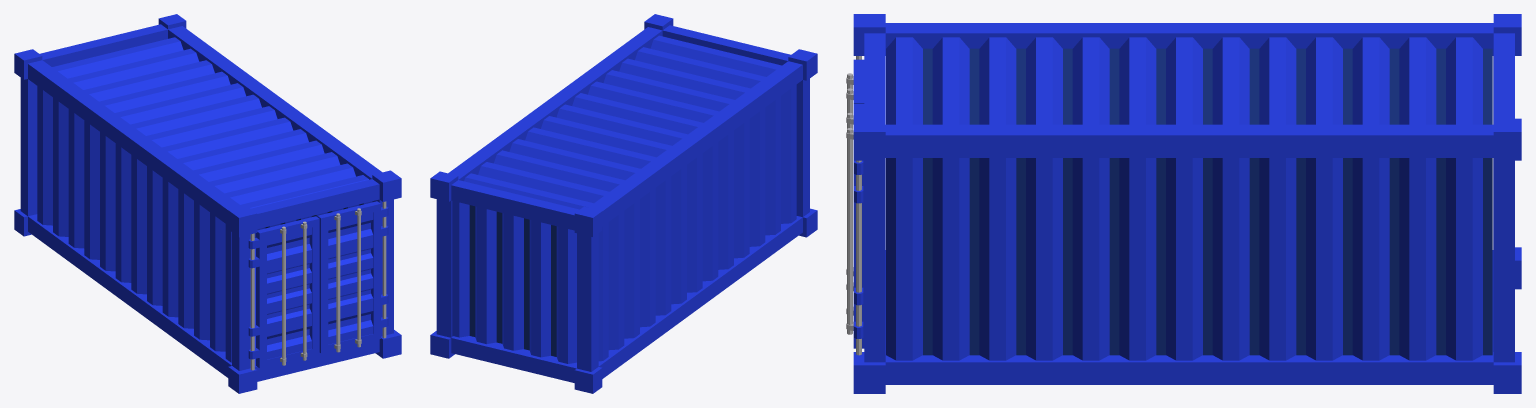
File: Container_1_4.fbx
The picture shows the model from 3 angles, left to right: view 1: azimuth 30°, elevation 25°; view 2: azimuth 150°, elevation 25°; view 3: azimuth 270°, elevation 25°; orthographic projection. The views are drawn at different scales.
Visible parts, largest first — view 1: Container_1_4, Door_Left_1_4, Door_Right_1_4; view 2: Container_1_4; view 3: Container_1_4, Door_Right_1_4, Door_Left_1_4.
Boxes of the visible parts, left/top/right/bottom form: Container_1_4: left=14, top=14, right=401, bottom=393; Door_Left_1_4: left=248, top=216, right=319, bottom=370; Door_Right_1_4: left=317, top=201, right=388, bottom=353; Container_1_4: left=430, top=14, right=817, bottom=393; Container_1_4: left=853, top=14, right=1521, bottom=393; Door_Right_1_4: left=846, top=104, right=864, bottom=355; Door_Left_1_4: left=846, top=56, right=864, bottom=291.
Bounding box in the file's own units: 261 × 270 × 631.
